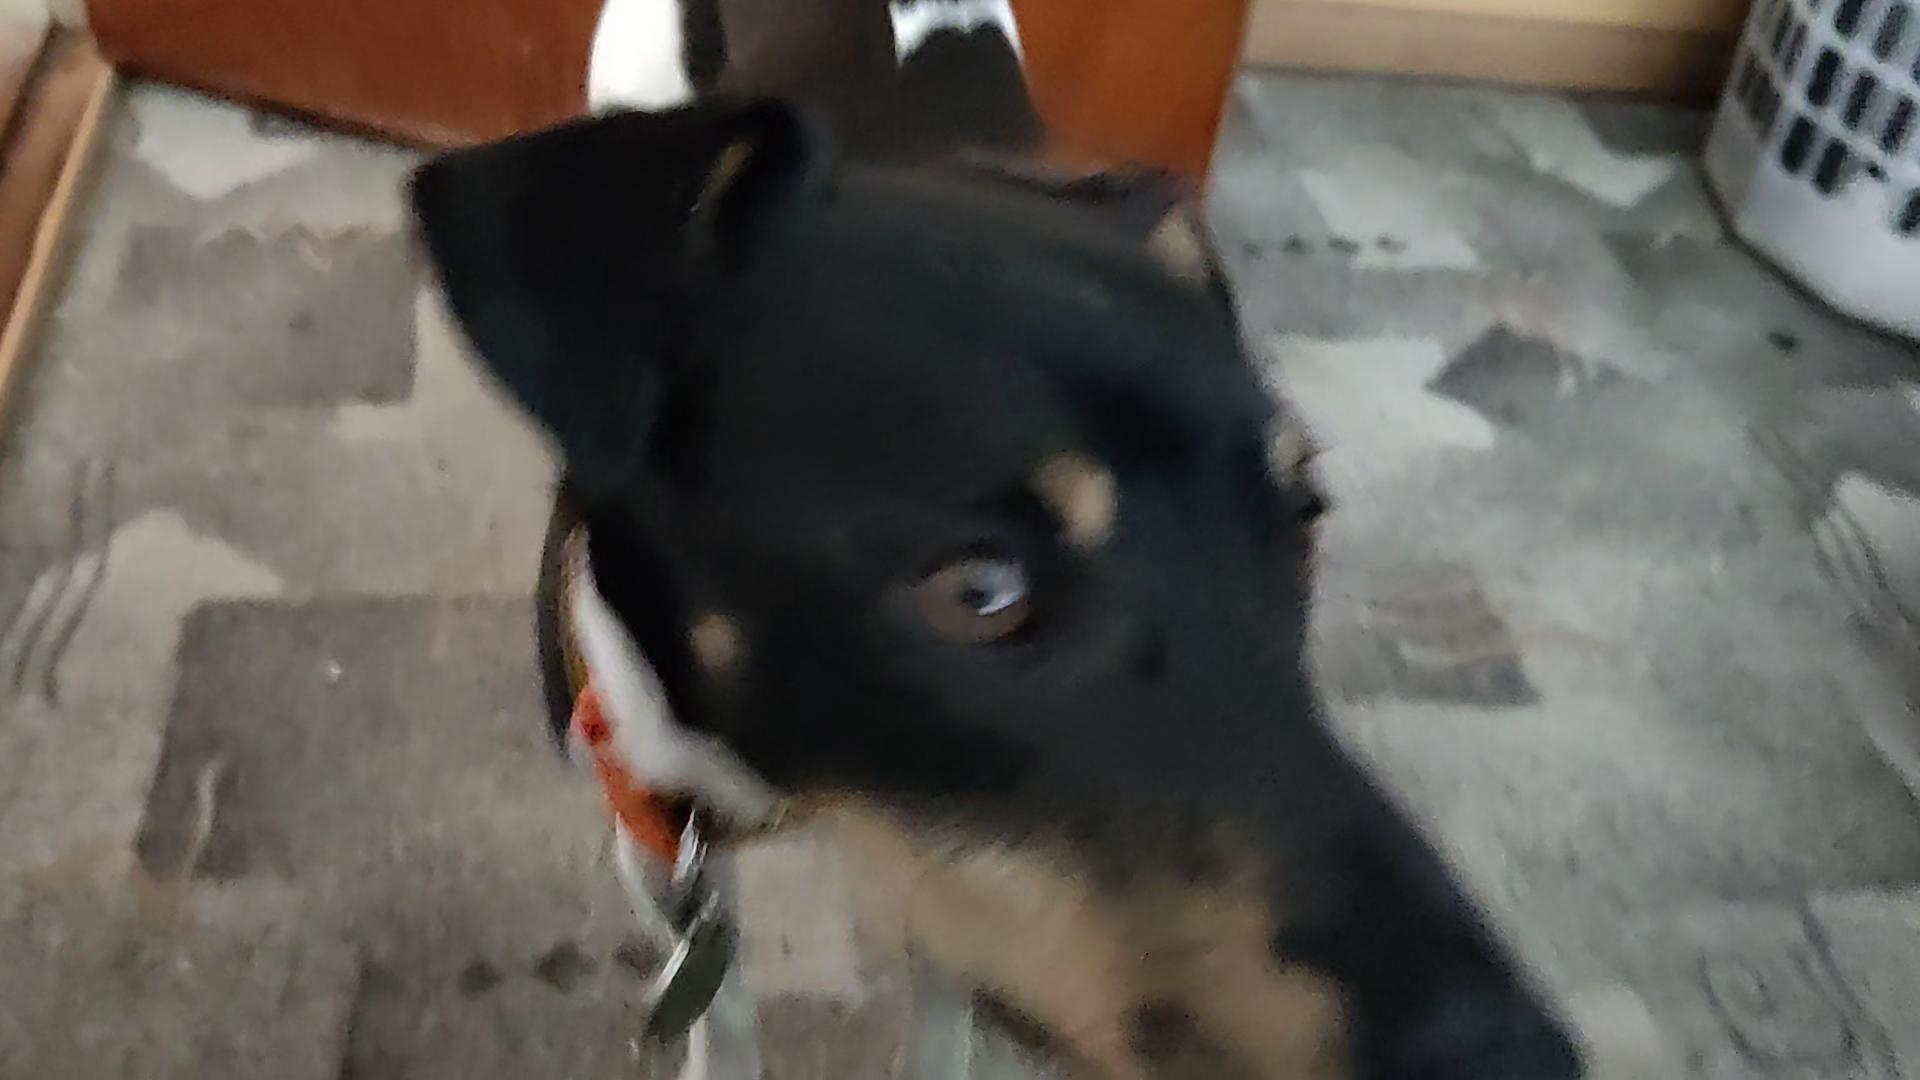Dog: (380, 0, 1629, 1080)
